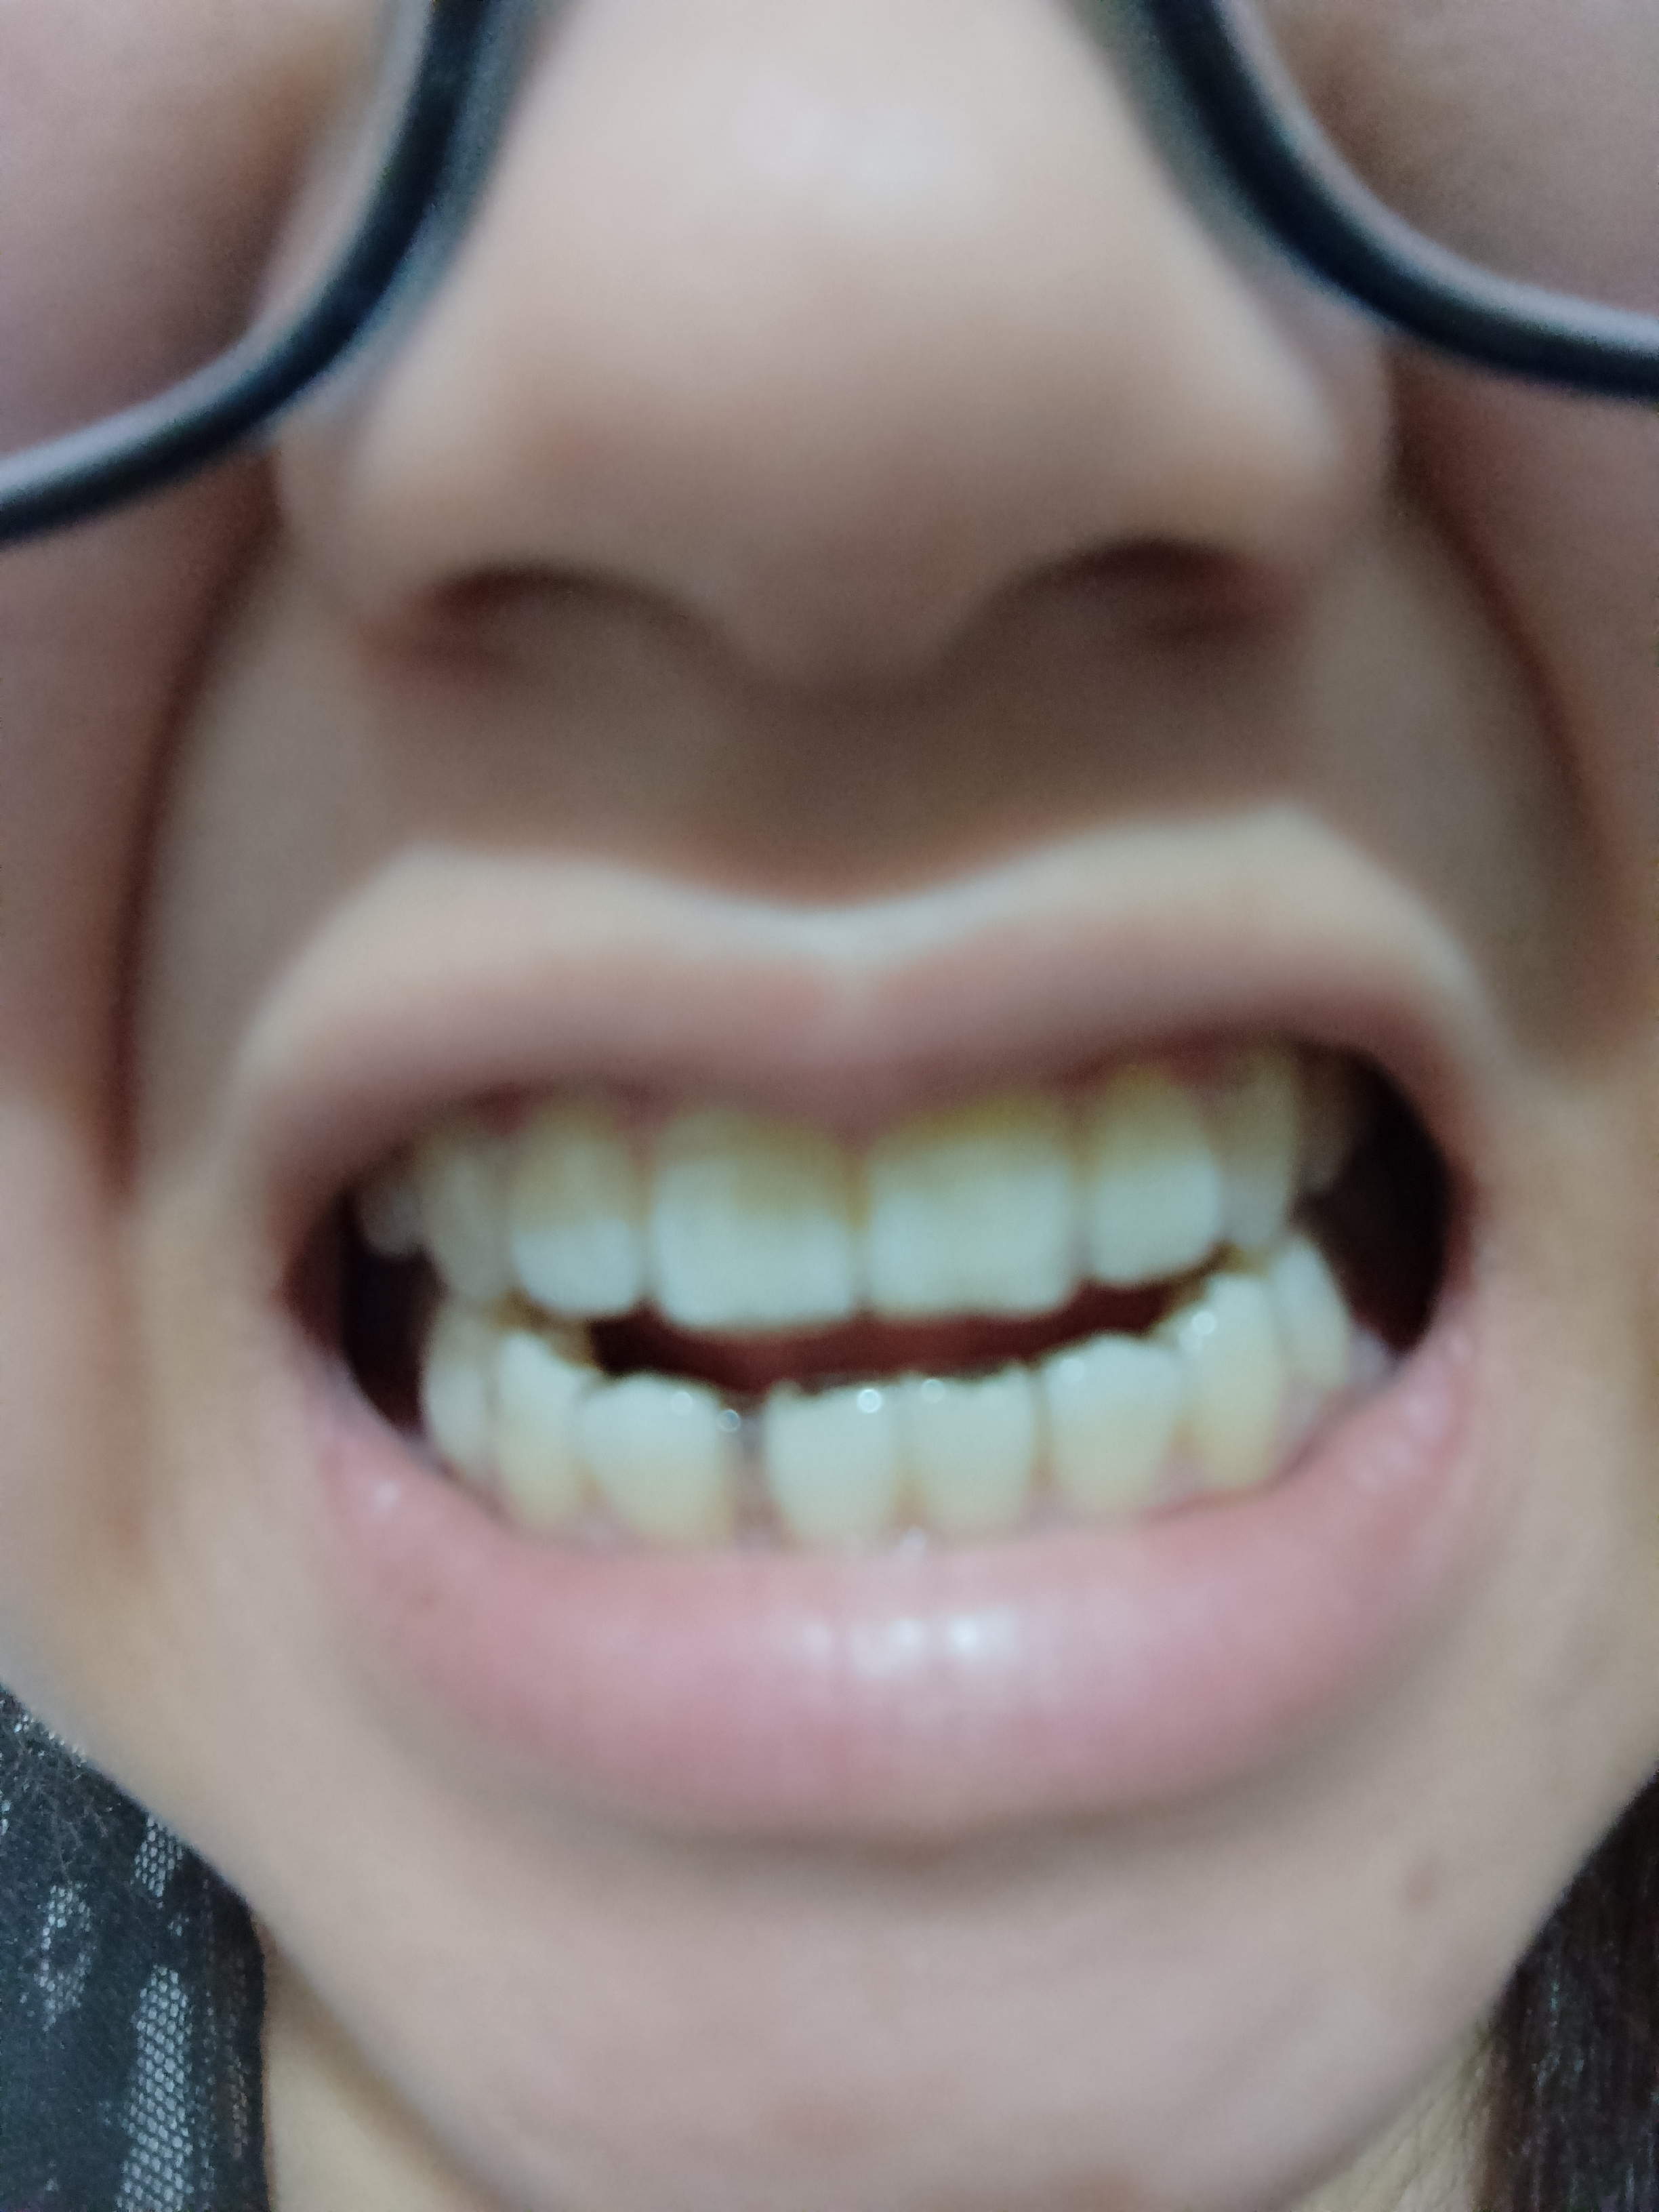teeth: (866, 1104, 1080, 1301), (655, 1125, 833, 1306), (1093, 1078, 1209, 1270), (525, 1101, 624, 1301), (1188, 1280, 1291, 1470), (1060, 1346, 1175, 1512), (589, 1385, 713, 1536), (915, 1392, 1039, 1541), (775, 1400, 882, 1548), (1192, 1078, 1298, 1219), (498, 1360, 577, 1524), (429, 1132, 498, 1282), (420, 1315, 479, 1454)
